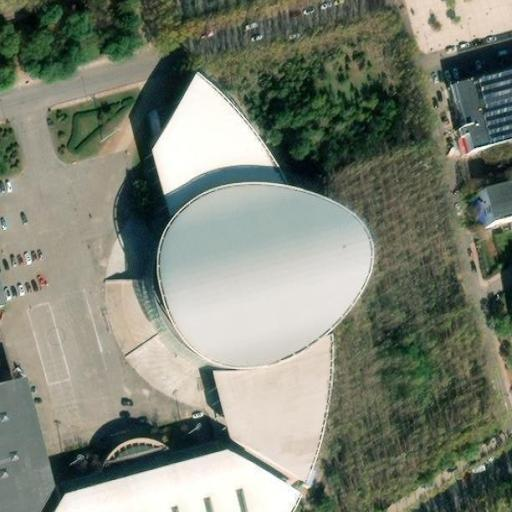building: (155, 186, 365, 363), (206, 323, 331, 489), (151, 77, 290, 224), (48, 444, 300, 512), (0, 374, 61, 512), (460, 68, 512, 150), (100, 437, 173, 480), (483, 179, 512, 223)
